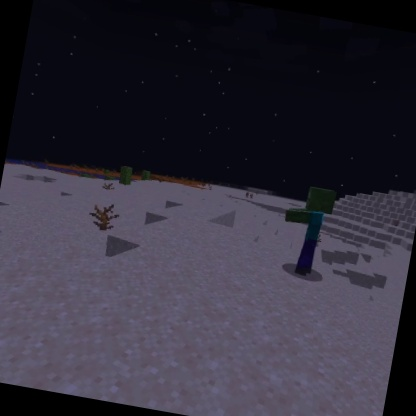zombie: (271, 178, 342, 284)
